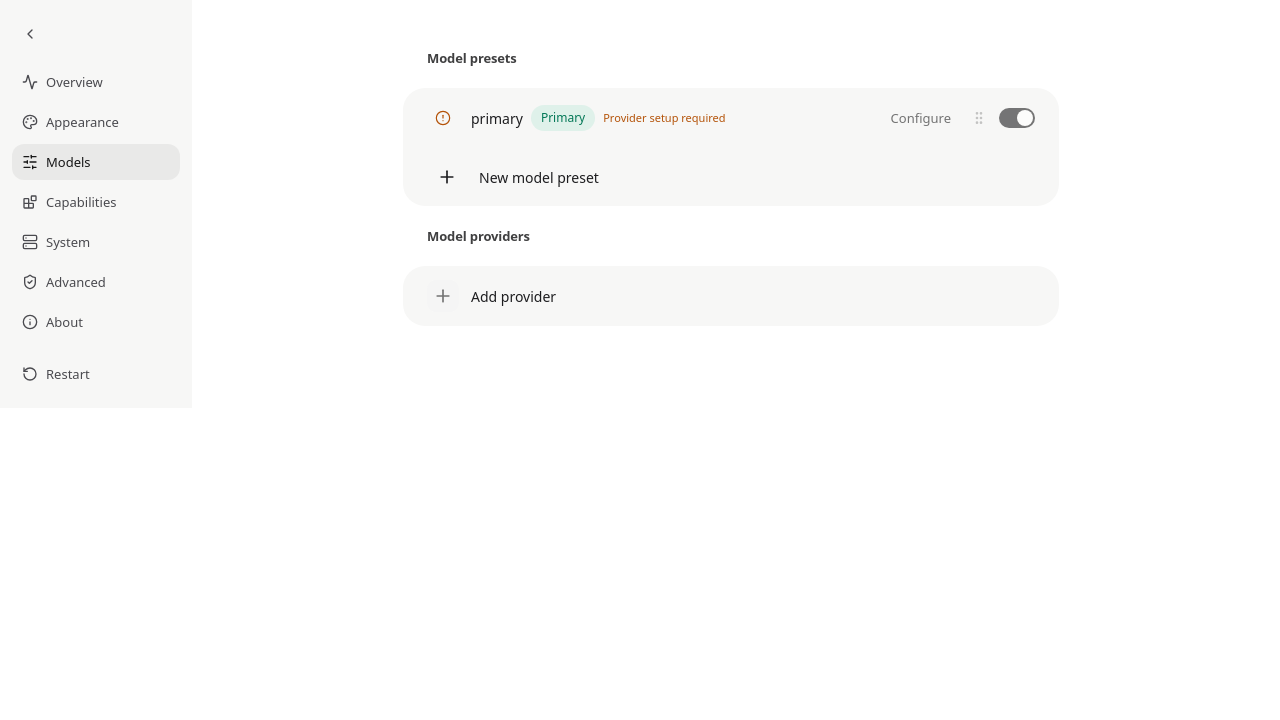
it: Settings models › marks the current model as unconfigured when its provider needs setup
Check: the text "Provider setup required" is shown, box [603,110,726,126]
Click the button "primary Primary Provider setup required Configure".
click(693, 118)  # box [427,102,959,134]
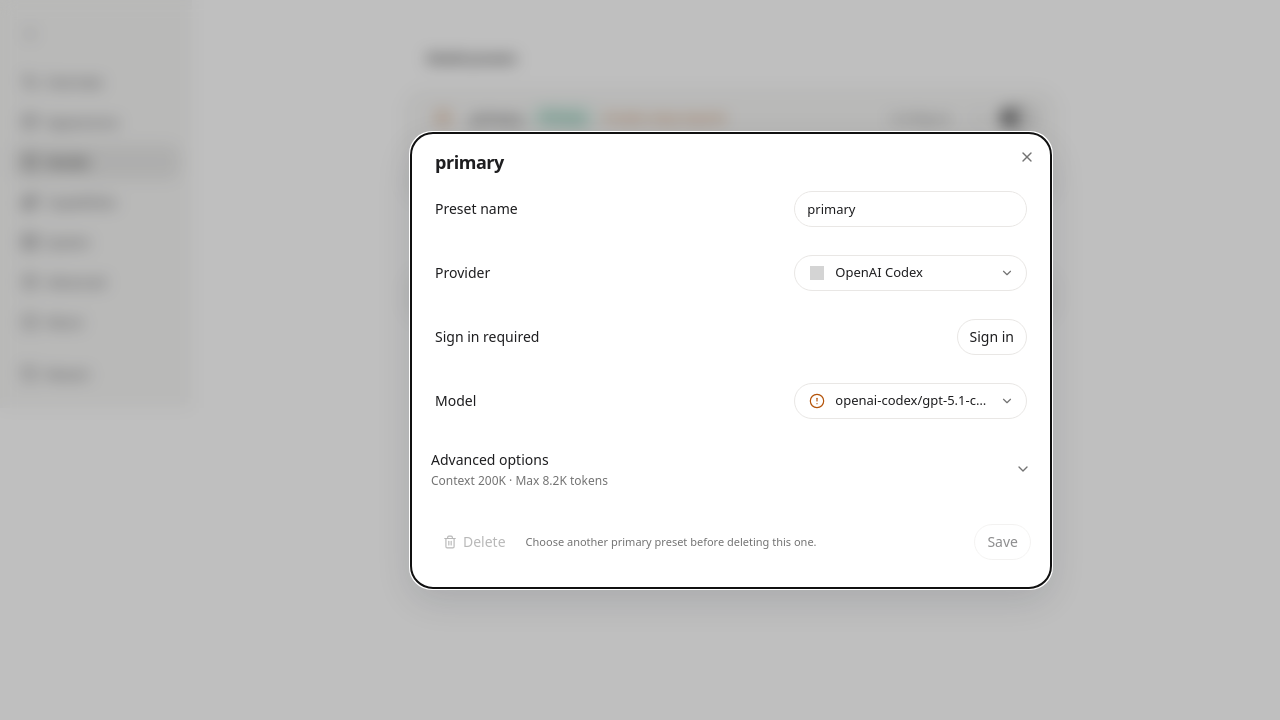
Click the button "Sign in required".
click(487, 336)  # box [435,326,539,346]
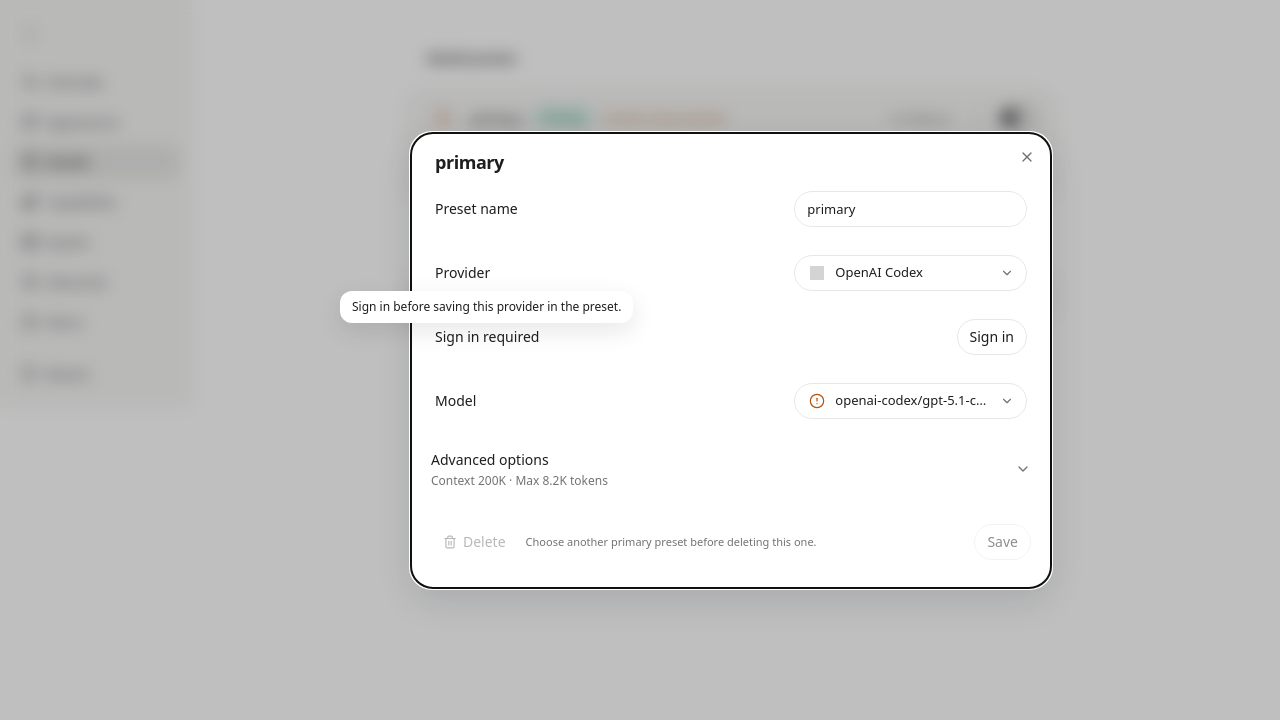
Check: the button "Sign in" is shown, box [956,318,1027,354]
Check: the tooltip shows "Sign in before saving", box [352,298,621,315]
